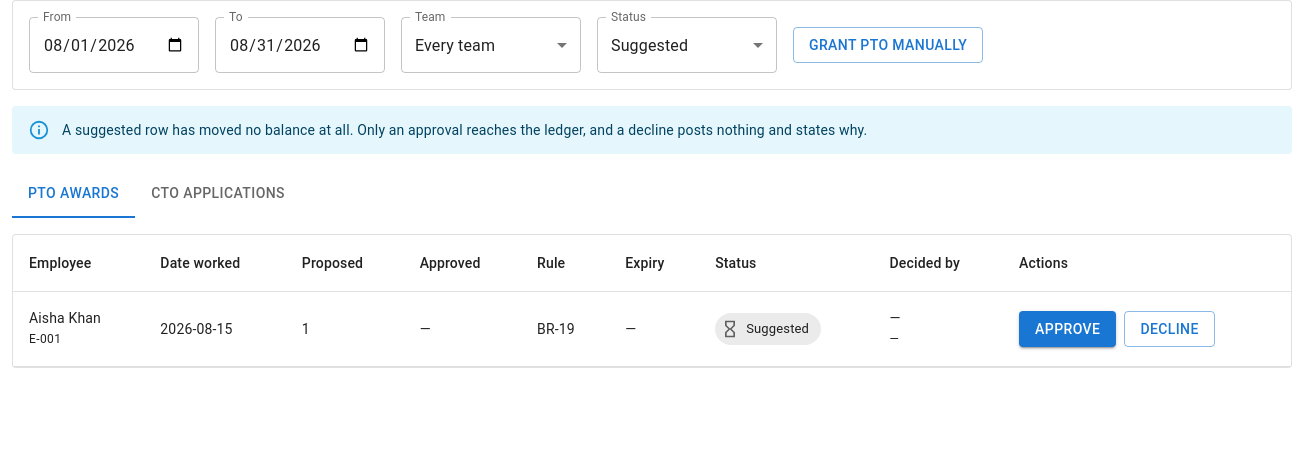
Test: PtoCandidates › shows the approved figure and the ladder row that produced it (NFR-11)
Click the dropdown named "status": click(650, 45) top-left (611, 36), bottom-right (688, 54)
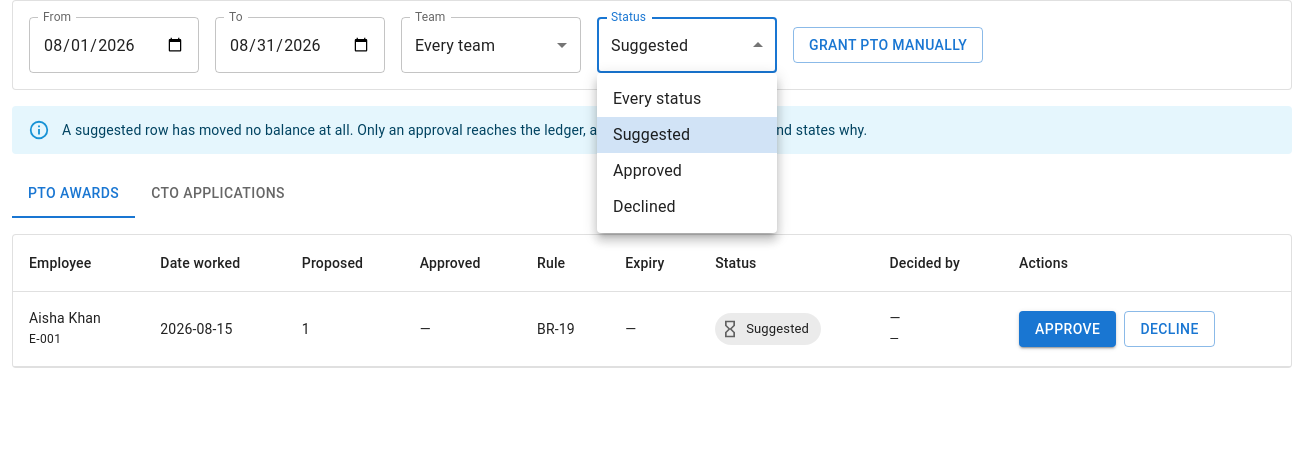
Click the option "Every status": click(657, 98) top-left (613, 89), bottom-right (701, 108)
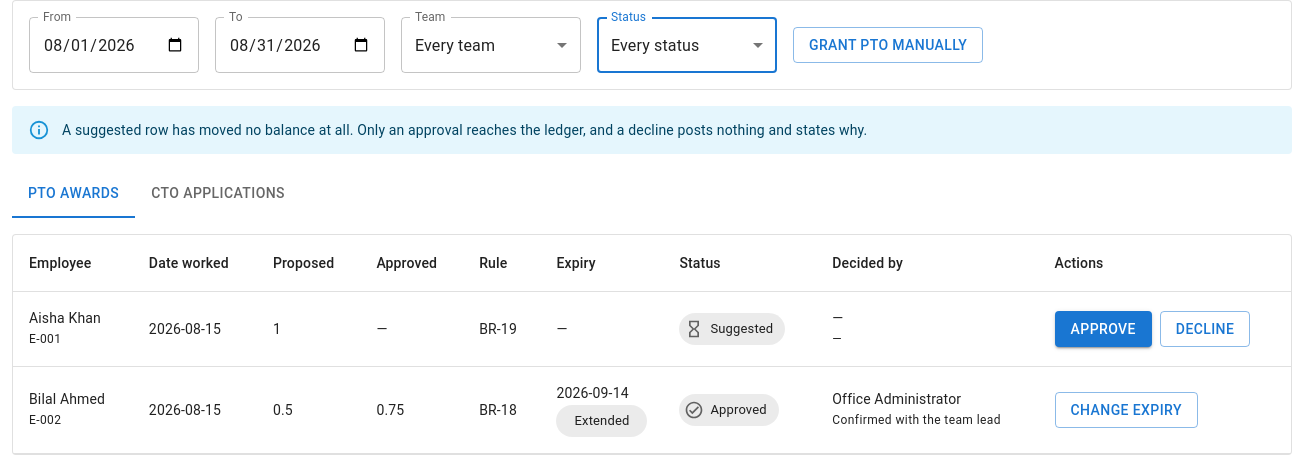
Expected: the text "0.75" is shown, top-left (376, 402), bottom-right (404, 418)
Expected: the text "BR-18" is shown, top-left (479, 402), bottom-right (517, 418)
